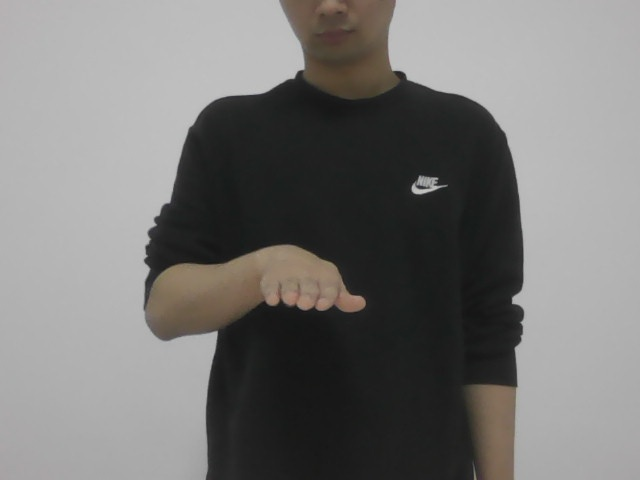slow: (246, 237, 373, 328)
